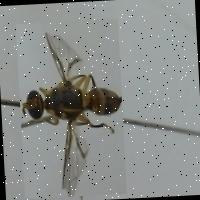Oriental-fruit-fly: (15, 18, 126, 198)
